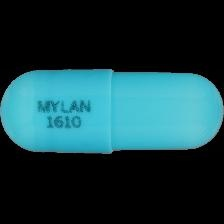52125-651: (0, 0, 224, 224)
